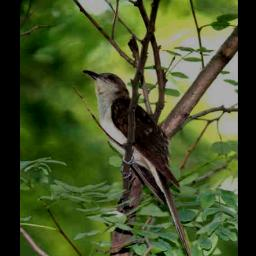Cuckoo: (83, 69, 194, 256)
